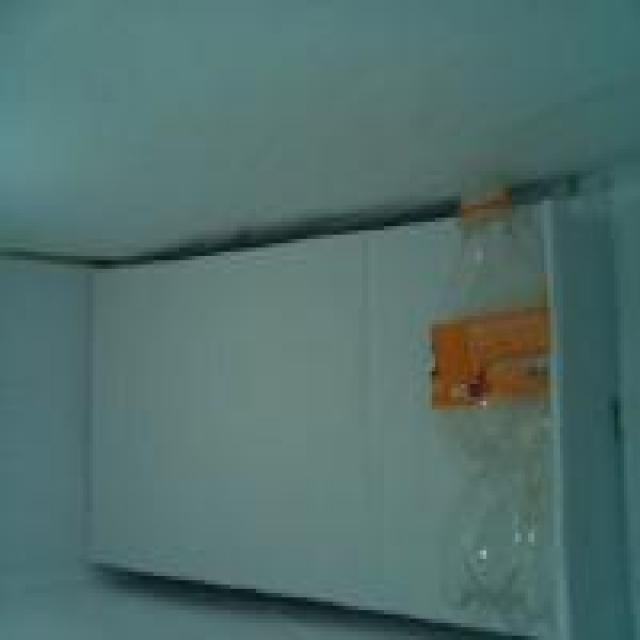bottle: (421, 182, 558, 625)
